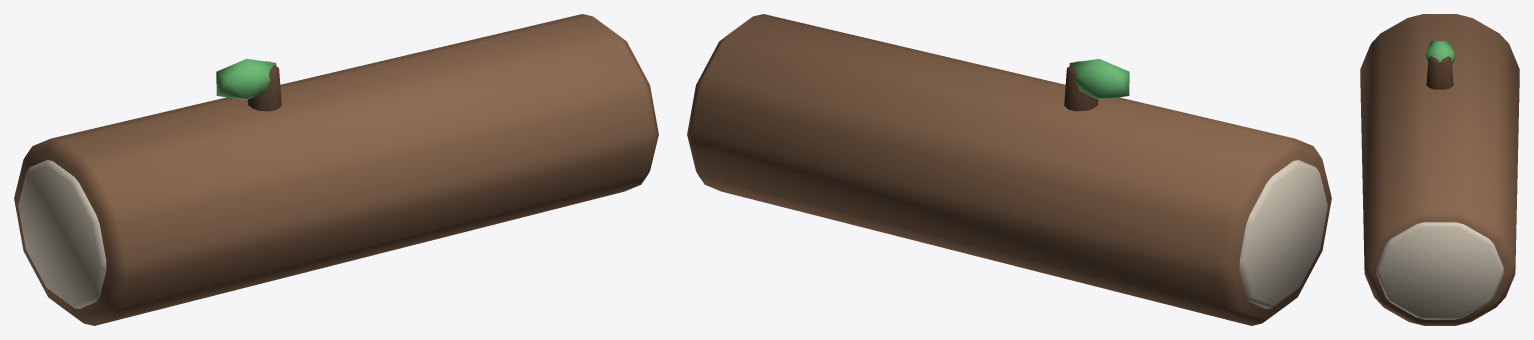
Rendered from log.glb.
3 views of the same model, side by side, from view 1: azimuth 30°, elevation 25°; view 2: azimuth 150°, elevation 25°; view 3: azimuth 270°, elevation 25° (orthographic). The views are drawn at different scales.
Visible parts, largest first — view 1: log; view 2: log; view 3: log.
Boxes of the visible parts, x1=… form: log: x1=14, y1=14, x2=658, y2=325; log: x1=687, y1=14, x2=1331, y2=325; log: x1=1360, y1=14, x2=1519, y2=325.
Size of the model in its own units: 0.6 by 0.22 by 0.2.
